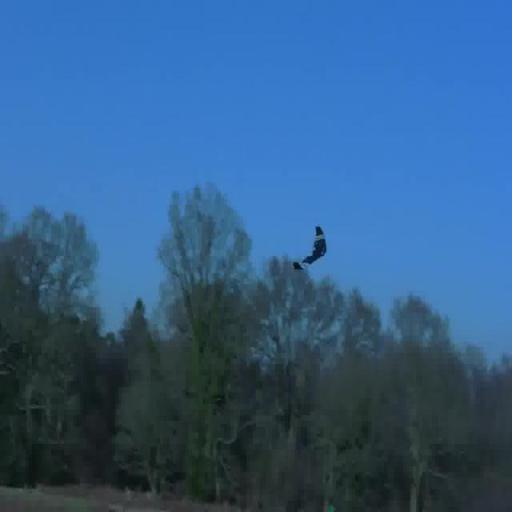uav: (290, 221, 332, 279)
